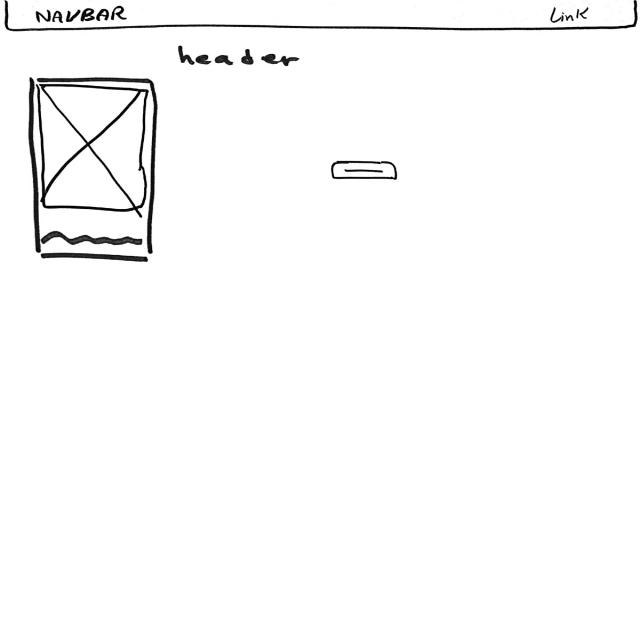container: (28, 77, 161, 263), (2, 1, 640, 33)
icon-button: (330, 162, 399, 183)
image: (37, 85, 150, 213)
label: (179, 44, 301, 69), (35, 7, 129, 25), (547, 8, 591, 24)
text: (43, 231, 145, 249)
